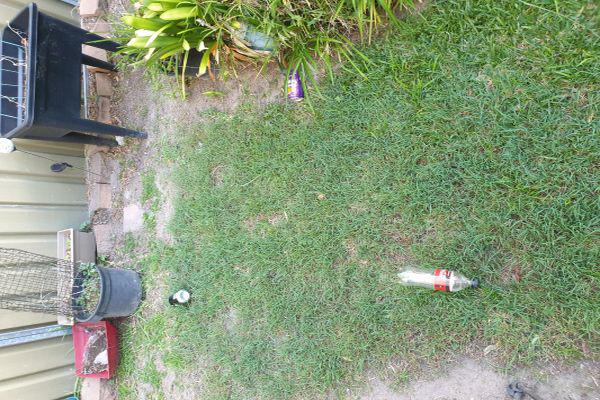Plastic Bottle: (396, 266, 480, 294), (286, 68, 306, 103), (169, 289, 192, 307)
